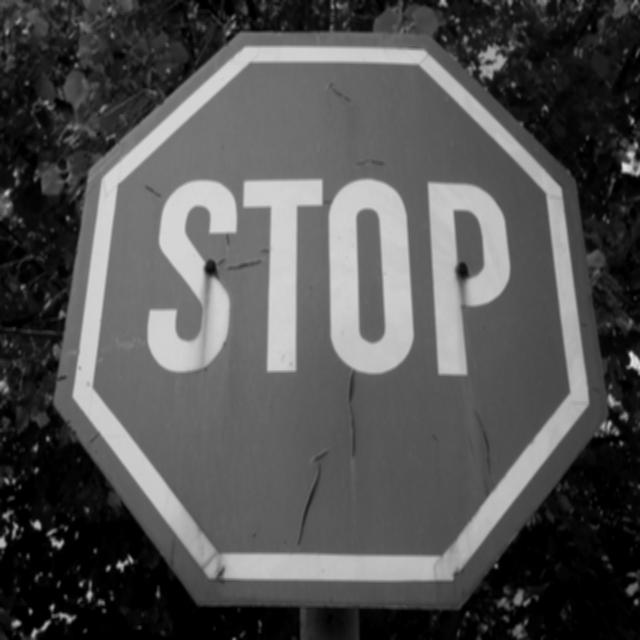Stop-sign: (41, 0, 613, 640)
